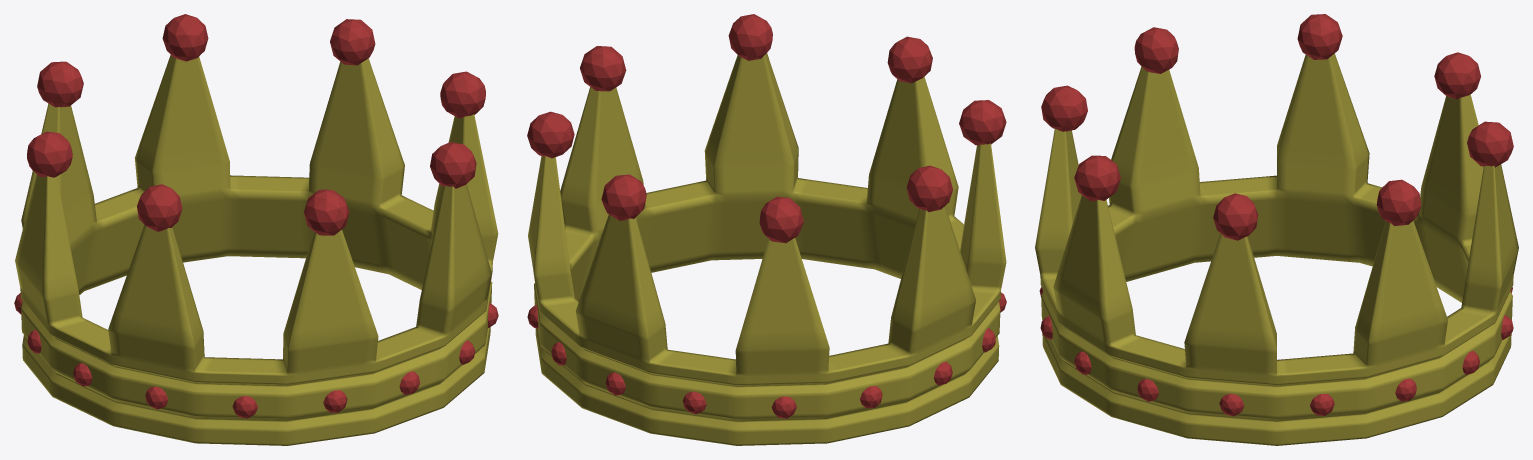
Rendered from king_crown.glb.
3 views of the same model, side by side, from view 1: azimuth 30°, elevation 25°; view 2: azimuth 150°, elevation 25°; view 3: azimuth 270°, elevation 25° (orthographic).
Parts seen in each view (by area): view 1: Object_2, Object_3; view 2: Object_2, Object_3; view 3: Object_2, Object_3.
Boxes of the visible parts, <box> form: Object_2: <box>15,55,498,445</box>; Object_3: <box>14,14,498,418</box>; Object_2: <box>528,53,1006,445</box>; Object_3: <box>527,14,1006,418</box>; Object_2: <box>1035,53,1518,445</box>; Object_3: <box>1039,14,1513,416</box>.
Bounding box in the file's own units: 2.05 × 1.13 × 2.05.
